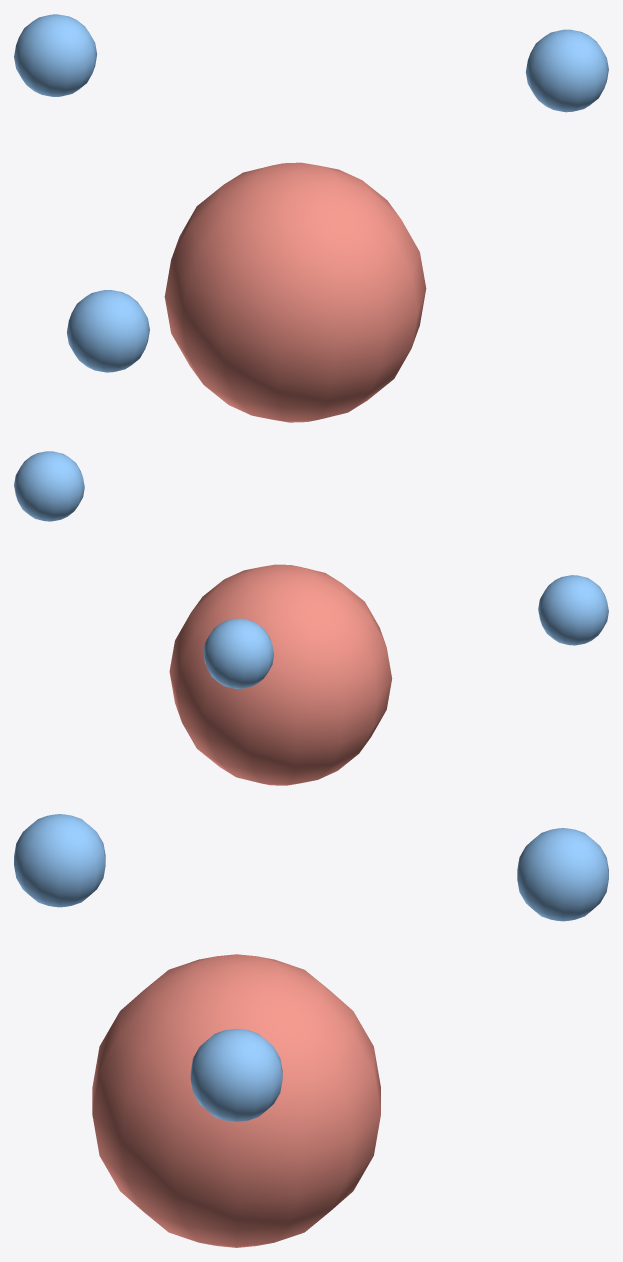
File: atom.glb
The picture shows the model from 3 angles, top to bottom: view 1: azimuth 30°, elevation 25°; view 2: azimuth 150°, elevation 25°; view 3: azimuth 270°, elevation 25°; orthographic projection. The views are drawn at different scales.
Size of the model in its own units: 1.18 by 0.5777 by 0.8847.
